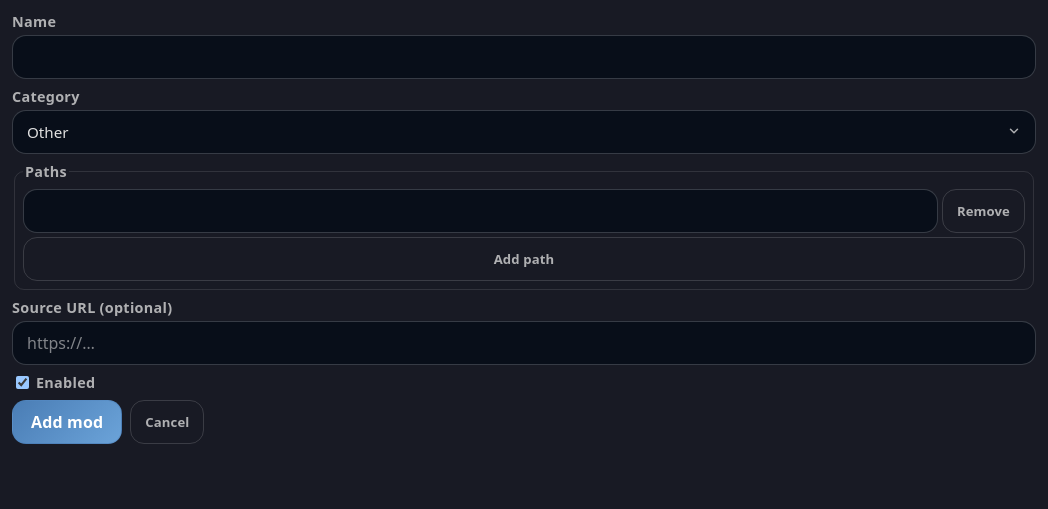
Test: ModForm › adds and removes path rows
This screenshot has width=1048, height=509.
Expected: the field named "Path 1" is shown, [23,189,938,233]
Click the button "Add path" at (524, 259), box [23,237,1025,281]
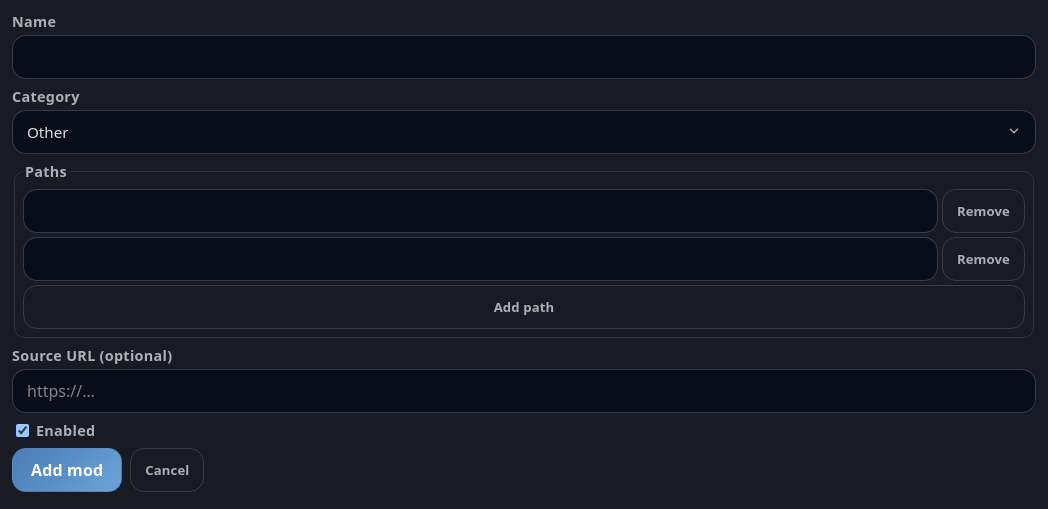
Result: the field named "Path 2" is shown
Type "keep-me.dll" into the field named "Path 2" at (480, 259), box [23,237,938,281]
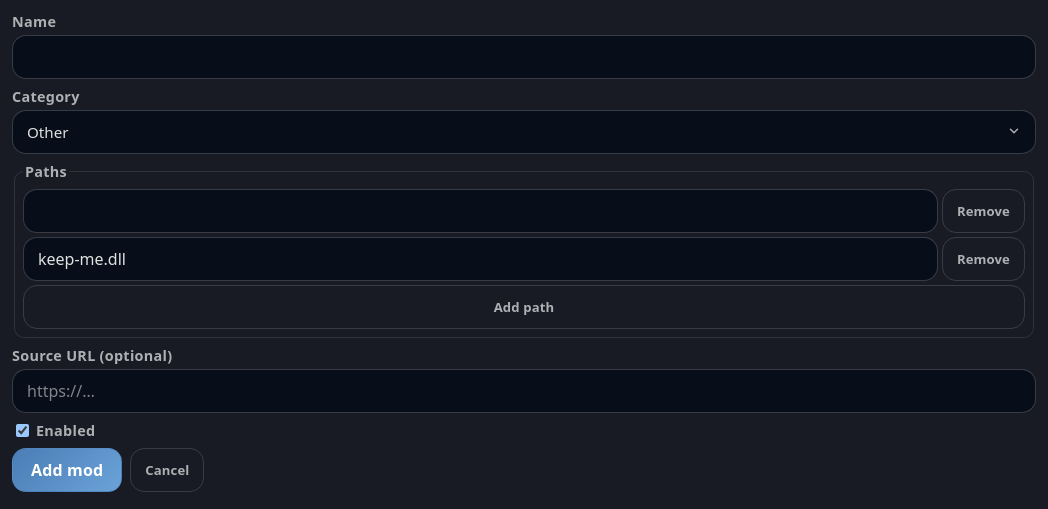
Click the 1st button "Remove" at (983, 211), box [942,189,1025,233]
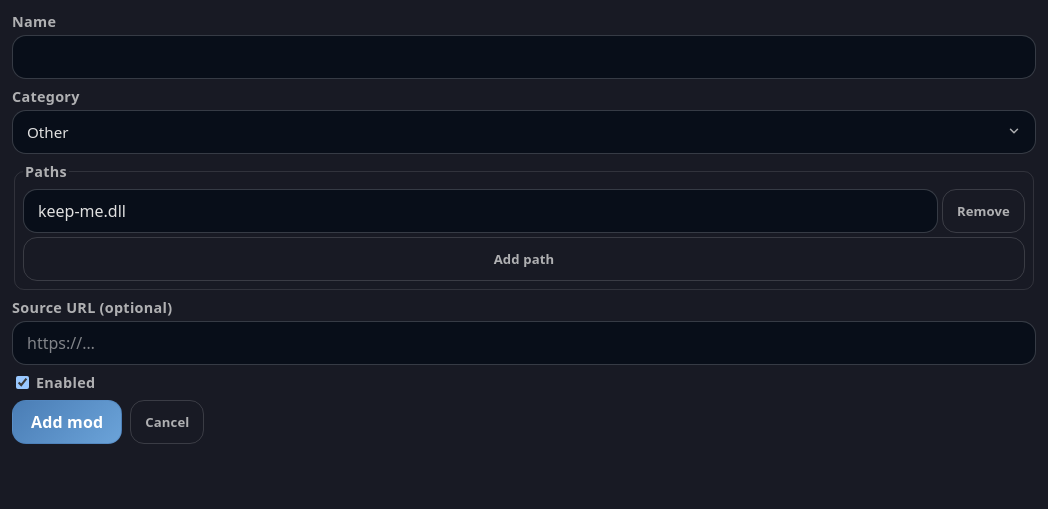
Result: the field named "Path 1" holds "keep-me.dll" at [23,189,938,233]
